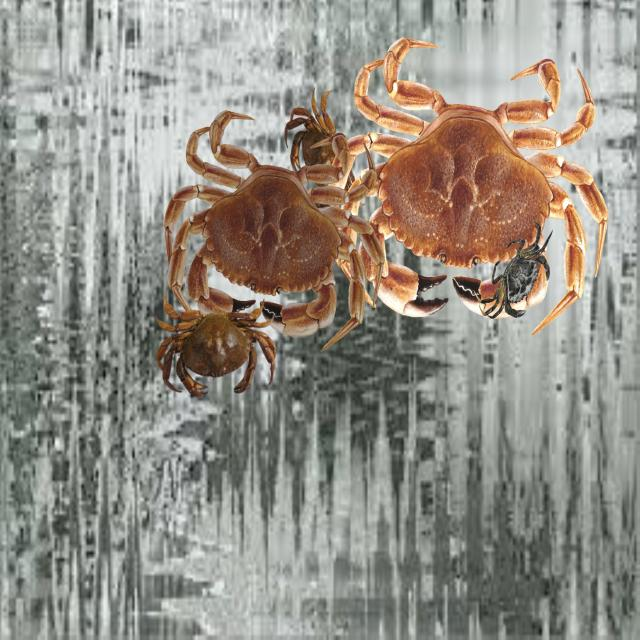European_Green_Crab: (469, 204, 569, 344)
